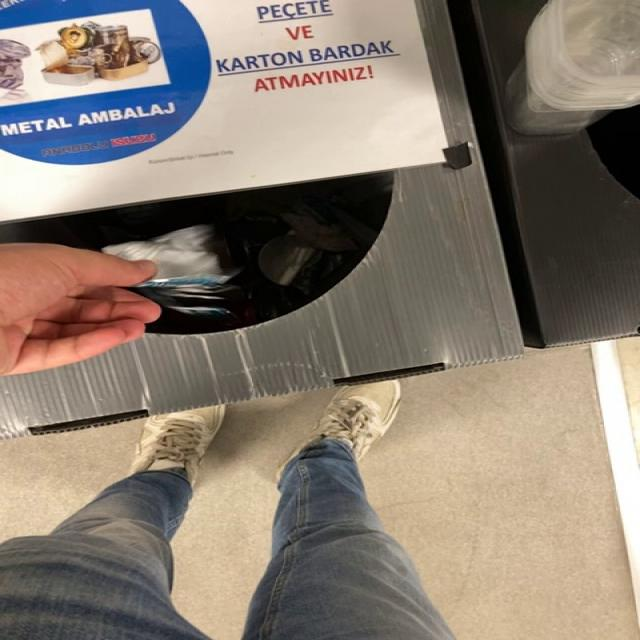bin: (0, 0, 523, 438)
metal: (101, 225, 244, 330)
